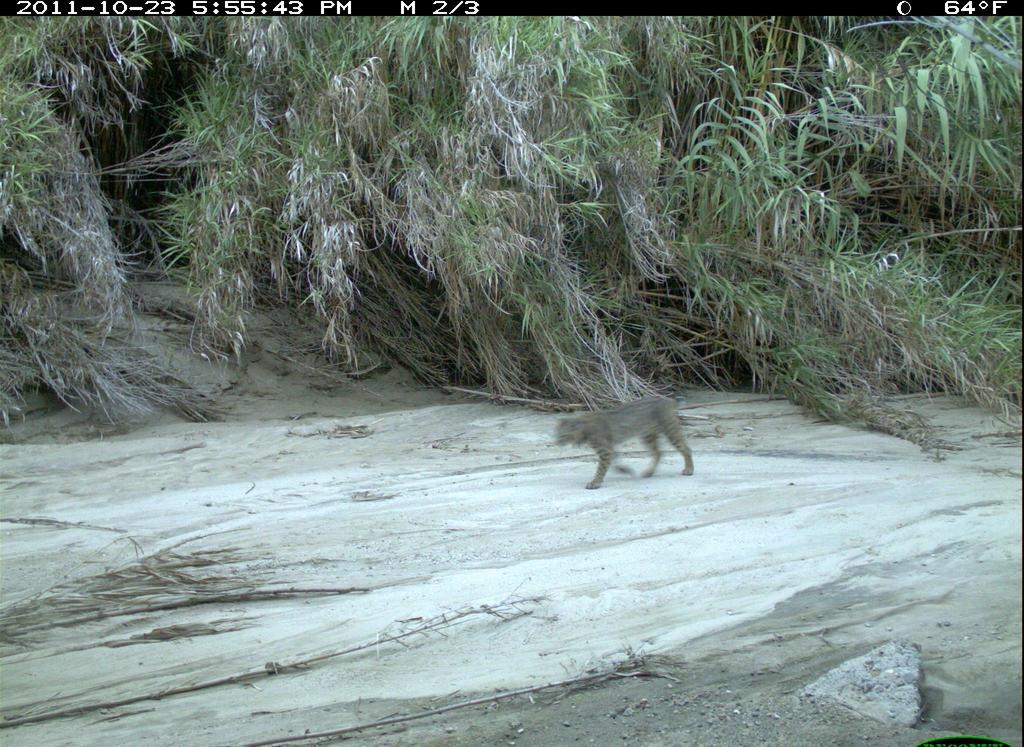bobcat: (550, 387, 706, 496)
